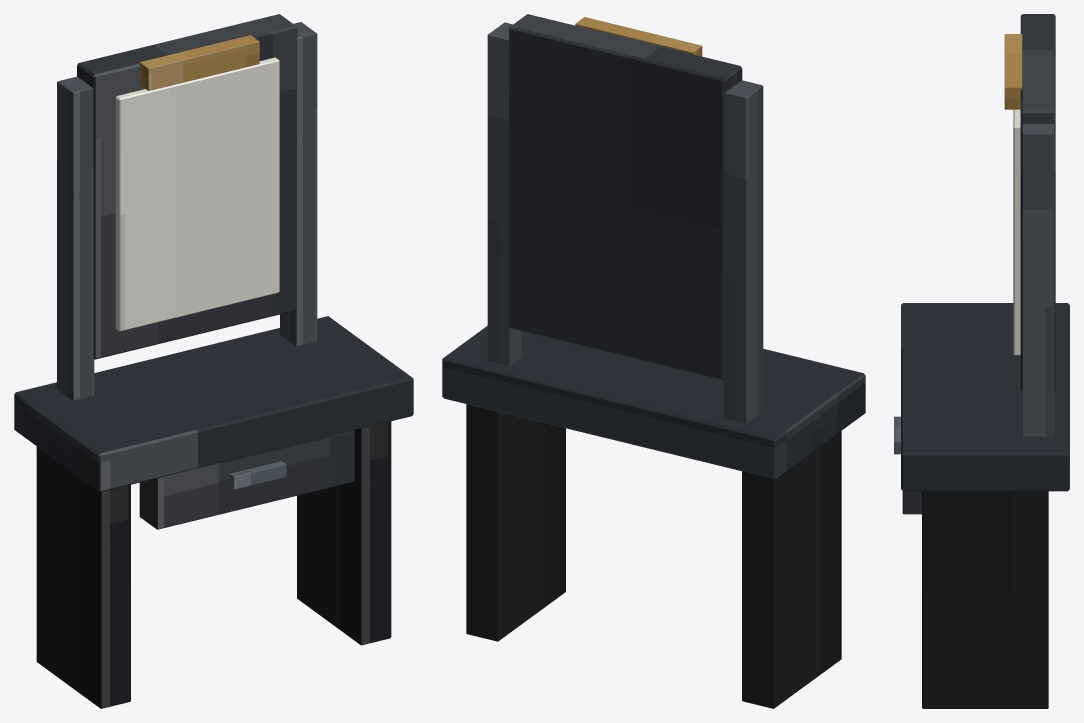
Rendered from bedroom_vanity_charcoal.glb.
3 renders of one model, left to right at view 1: azimuth 30°, elevation 25°; view 2: azimuth 150°, elevation 25°; view 3: azimuth 270°, elevation 25°, orthographic. The views are drawn at different scales.
Visible parts, largest first — view 1: VanityTop, VanityMirrorGlass, VanityLeg_L, VanityMirrorBack, VanityLeg_R, MirrorPost_L, VanityDrawer, MirrorPost_R, VanityAccent, VanityHandle; view 2: VanityMirrorBack, VanityTop, VanityLeg_L, VanityLeg_R, MirrorPost_L, MirrorPost_R, VanityAccent; view 3: VanityLeg_R, VanityTop, MirrorPost_R, VanityMirrorBack, VanityMirrorGlass, VanityAccent, VanityDrawer.
Part boxes in pixels (x1,y1,x2,y2): VanityTop: (14,316,413,492); VanityMirrorGlass: (115,57,279,331); VanityLeg_L: (36,446,130,708); VanityMirrorBack: (77,14,297,359); VanityLeg_R: (297,421,391,645); MirrorPost_L: (57,76,94,400); VanityDrawer: (139,430,354,529); MirrorPost_R: (280,22,317,346); VanityAccent: (139,35,259,90); VanityHandle: (229,461,286,489); VanityMirrorBack: (509,14,742,380); VanityTop: (442,326,865,479); VanityLeg_L: (742,431,841,708); VanityLeg_R: (466,404,565,641); MirrorPost_L: (724,80,763,423); MirrorPost_R: (487,22,526,365); VanityAccent: (575,17,702,56); VanityLeg_R: (922,491,1048,708); VanityTop: (901,303,1069,491); MirrorPost_R: (1022,124,1053,436); VanityMirrorBack: (1020,14,1055,390); VanityMirrorGlass: (1013,109,1020,355); VanityAccent: (1004,34,1022,109); VanityDrawer: (902,491,921,514).
Size of the model in its own units: 1.02 by 1.81 by 0.4995.
1 material, 1 textured.
